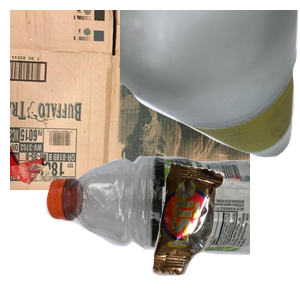cardboard: (10, 10, 250, 190)
glass: (120, 10, 300, 160)
plastic: (43, 152, 283, 300)
trash: (150, 160, 300, 300)
